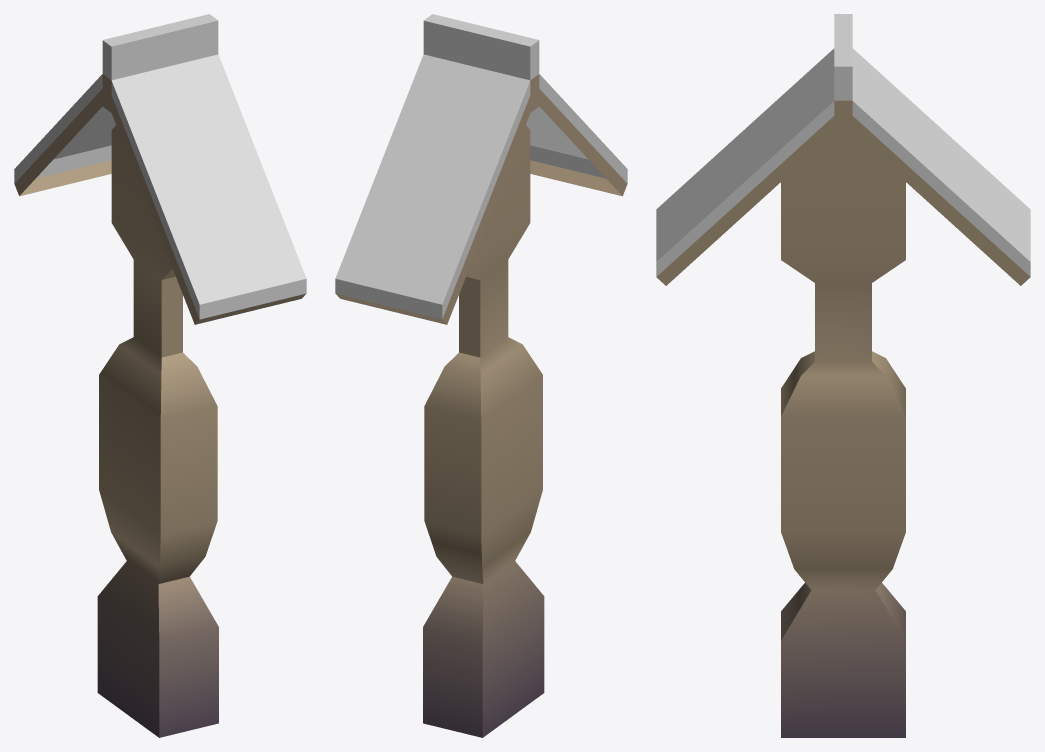
File: prop_mogila1V3.fbx
3 views of the same model, side by side, from view 1: azimuth 30°, elevation 25°; view 2: azimuth 150°, elevation 25°; view 3: azimuth 270°, elevation 25° (orthographic).
Parts seen in each view (by area): view 1: Prop_Mogila1; view 2: Prop_Mogila1; view 3: Prop_Mogila1.
Part boxes in pixels (x1=…): Prop_Mogila1: x1=14, y1=14, x2=306, y2=737; Prop_Mogila1: x1=335, y1=14, x2=627, y2=737; Prop_Mogila1: x1=656, y1=14, x2=1030, y2=737.
Bounding box in the file's own units: 20 × 121 × 60.08.
